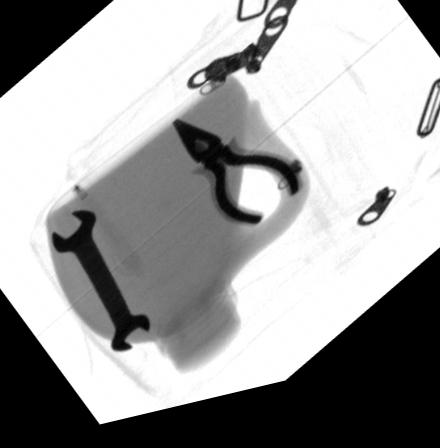Pliers: (173, 127, 302, 237)
Wrench: (52, 211, 150, 357)
